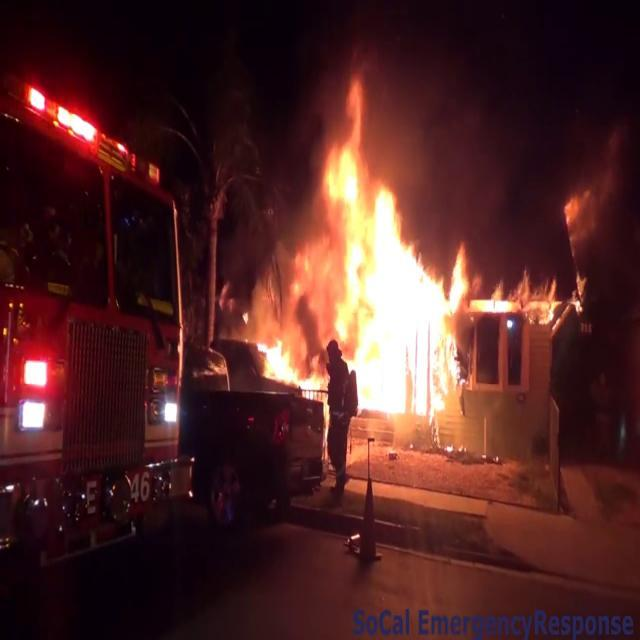Fire: (253, 82, 470, 426), (478, 258, 561, 326)
